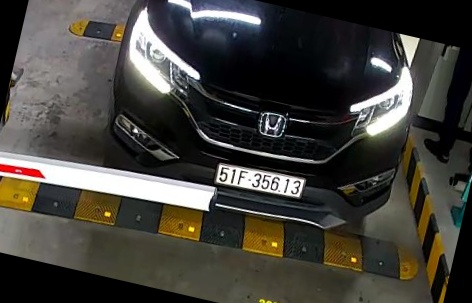plate: (205, 150, 310, 212)
